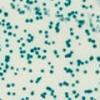Blue_green: (3, 11, 9, 18), (93, 87, 99, 93), (4, 64, 10, 70), (94, 69, 100, 75), (39, 68, 45, 74), (58, 13, 64, 19), (6, 24, 12, 30), (5, 43, 11, 49), (64, 81, 69, 88), (59, 17, 66, 22), (87, 89, 93, 94), (75, 92, 81, 97), (64, 91, 69, 97), (52, 94, 57, 100), (24, 95, 30, 100), (6, 91, 12, 96), (2, 68, 7, 74), (28, 68, 33, 74), (74, 79, 80, 84), (6, 83, 11, 89), (75, 67, 80, 73), (87, 37, 92, 43), (89, 56, 95, 61), (75, 35, 80, 41), (84, 29, 90, 34), (79, 13, 85, 18), (78, 23, 83, 29), (67, 12, 73, 17), (70, 31, 75, 37), (67, 52, 72, 58), (62, 47, 67, 53), (54, 28, 60, 33), (24, 18, 30, 23), (29, 17, 34, 23), (41, 2, 47, 7), (53, 49, 58, 55), (55, 53, 60, 59), (16, 7, 21, 13), (14, 24, 19, 30), (27, 60, 33, 65), (4, 58, 9, 64), (8, 31, 13, 37), (89, 21, 93, 28), (22, 48, 26, 55), (74, 95, 79, 100), (42, 91, 47, 96), (22, 86, 27, 91), (21, 66, 26, 71), (34, 79, 39, 84), (58, 82, 63, 87), (62, 80, 67, 85), (71, 82, 76, 87), (82, 69, 87, 74), (70, 73, 75, 78), (92, 28, 97, 33), (92, 44, 97, 49), (91, 39, 96, 44), (80, 19, 85, 24), (66, 17, 71, 22), (72, 14, 77, 19), (65, 40, 70, 45), (58, 6, 63, 11), (38, 15, 43, 20), (34, 10, 39, 15), (46, 13, 51, 18), (51, 40, 56, 45), (37, 54, 42, 59), (44, 34, 49, 39), (38, 29, 43, 34), (43, 30, 48, 35), (23, 4, 28, 9), (34, 6, 39, 11), (18, 10, 23, 15), (1, 18, 6, 23), (6, 21, 11, 26), (32, 46, 37, 51), (34, 50, 39, 55), (36, 46, 41, 51), (9, 49, 14, 54), (72, 89, 76, 95), (40, 93, 46, 97), (46, 86, 50, 92), (0, 71, 4, 77), (0, 61, 4, 67), (11, 82, 15, 88), (48, 70, 54, 74), (47, 60, 51, 66), (96, 23, 100, 29), (96, 56, 100, 62), (76, 59, 82, 63), (69, 51, 75, 55), (64, 3, 70, 7), (35, 15, 39, 21), (43, 11, 49, 15), (26, 5, 30, 11), (29, 0, 33, 6), (1, 22, 5, 28), (19, 49, 23, 55), (22, 42, 26, 48), (26, 56, 30, 62), (17, 39, 21, 45), (84, 89, 88, 94), (81, 96, 86, 100), (64, 95, 69, 99), (67, 96, 72, 100), (41, 96, 46, 100), (50, 92, 54, 97), (30, 92, 34, 97), (31, 90, 35, 95), (20, 96, 25, 100), (12, 92, 17, 96), (10, 65, 14, 70), (15, 67, 19, 72), (29, 79, 33, 84), (36, 77, 40, 82), (50, 64, 54, 69), (69, 69, 73, 74), (63, 66, 67, 71), (65, 69, 69, 74), (67, 67, 71, 72), (81, 4, 86, 8), (96, 18, 100, 23), (95, 15, 100, 19), (69, 61, 74, 65), (77, 19, 81, 24), (70, 10, 75, 14), (67, 43, 71, 48), (55, 10, 60, 14), (48, 25, 53, 29), (54, 25, 59, 29), (56, 21, 60, 26), (43, 7, 47, 12), (44, 40, 48, 45), (21, 10, 25, 15), (25, 1, 30, 5), (33, 0, 38, 4), (11, 5, 15, 10), (16, 3, 20, 8), (3, 29, 7, 34), (23, 29, 27, 34), (19, 46, 23, 51), (27, 39, 31, 44), (30, 35, 34, 40), (27, 53, 31, 58), (29, 54, 33, 59), (20, 54, 24, 59), (5, 55, 10, 59), (13, 33, 17, 38), (5, 38, 9, 43), (81, 0, 87, 3), (0, 8, 3, 14), (93, 96, 97, 100), (51, 89, 55, 93), (1, 77, 5, 81), (14, 72, 18, 76), (38, 76, 42, 80), (89, 4, 93, 8), (91, 13, 95, 17), (87, 32, 91, 36), (81, 62, 85, 66), (85, 60, 89, 64), (77, 42, 81, 46), (69, 27, 73, 31), (67, 38, 71, 42), (63, 2, 67, 6), (67, 1, 71, 5), (54, 3, 58, 7), (57, 1, 61, 5), (36, 7, 40, 11), (47, 42, 51, 46), (41, 56, 45, 60), (43, 49, 47, 53), (49, 21, 53, 25), (10, 3, 14, 7), (27, 33, 31, 37), (30, 49, 34, 53), (90, 95, 93, 100), (49, 87, 52, 92), (0, 66, 3, 71), (76, 63, 81, 66), (75, 10, 78, 15), (54, 14, 59, 17), (11, 0, 16, 3), (20, 36, 23, 41), (0, 47, 3, 52), (85, 7, 89, 10), (88, 19, 92, 22), (65, 54, 68, 58), (38, 12, 42, 15), (49, 0, 55, 2), (18, 0, 24, 2), (30, 38, 33, 42), (98, 63, 100, 68), (25, 0, 30, 2), (43, 55, 46, 58), (26, 38, 29, 41), (98, 81, 100, 85), (98, 29, 100, 33), (64, 0, 72, 1), (0, 21, 2, 25)
